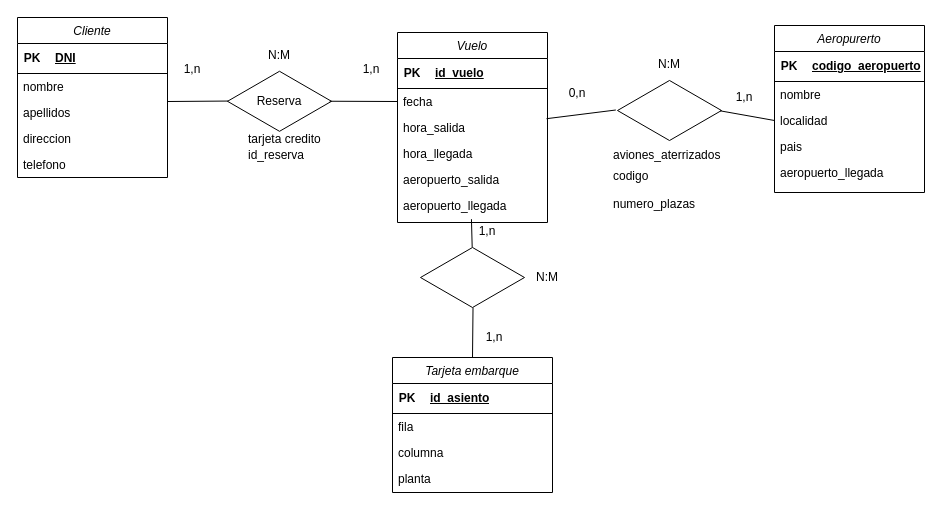
Some shapes in this 942 by 512 pixel diagram are drawn without their labels. The centre of each missing label's shape, as x and y in pixels:
"Genera" goes at [472,277].
"Viaja" goes at [669,110].
